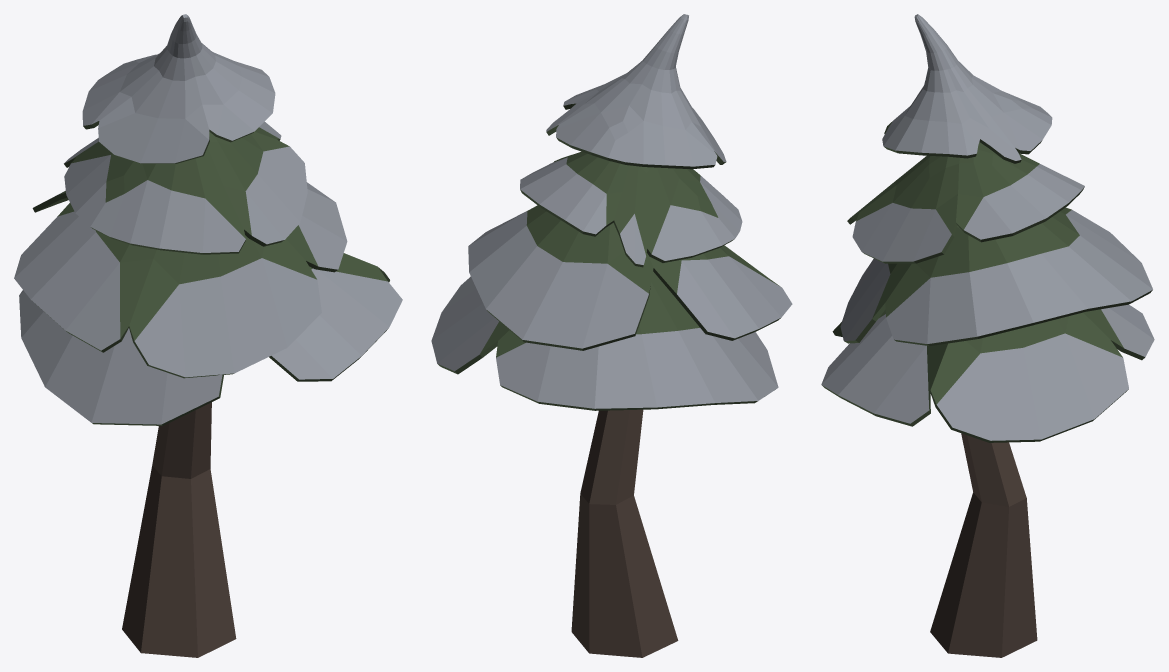
The model's file is sn_pine_5.glb.
3 views of the same model, side by side, from view 1: azimuth 30°, elevation 25°; view 2: azimuth 150°, elevation 25°; view 3: azimuth 270°, elevation 25° (orthographic). The views are drawn at different scales.
Visible parts, largest first — view 1: PineTree_Snow_5; view 2: PineTree_Snow_5; view 3: PineTree_Snow_5.
Boxes of the visible parts, x1=… form: PineTree_Snow_5: x1=14, y1=14, x2=402, y2=657; PineTree_Snow_5: x1=431, y1=14, x2=792, y2=657; PineTree_Snow_5: x1=821, y1=14, x2=1154, y2=657.
Bounding box in the file's own units: 1.47 × 2.69 × 1.34.
